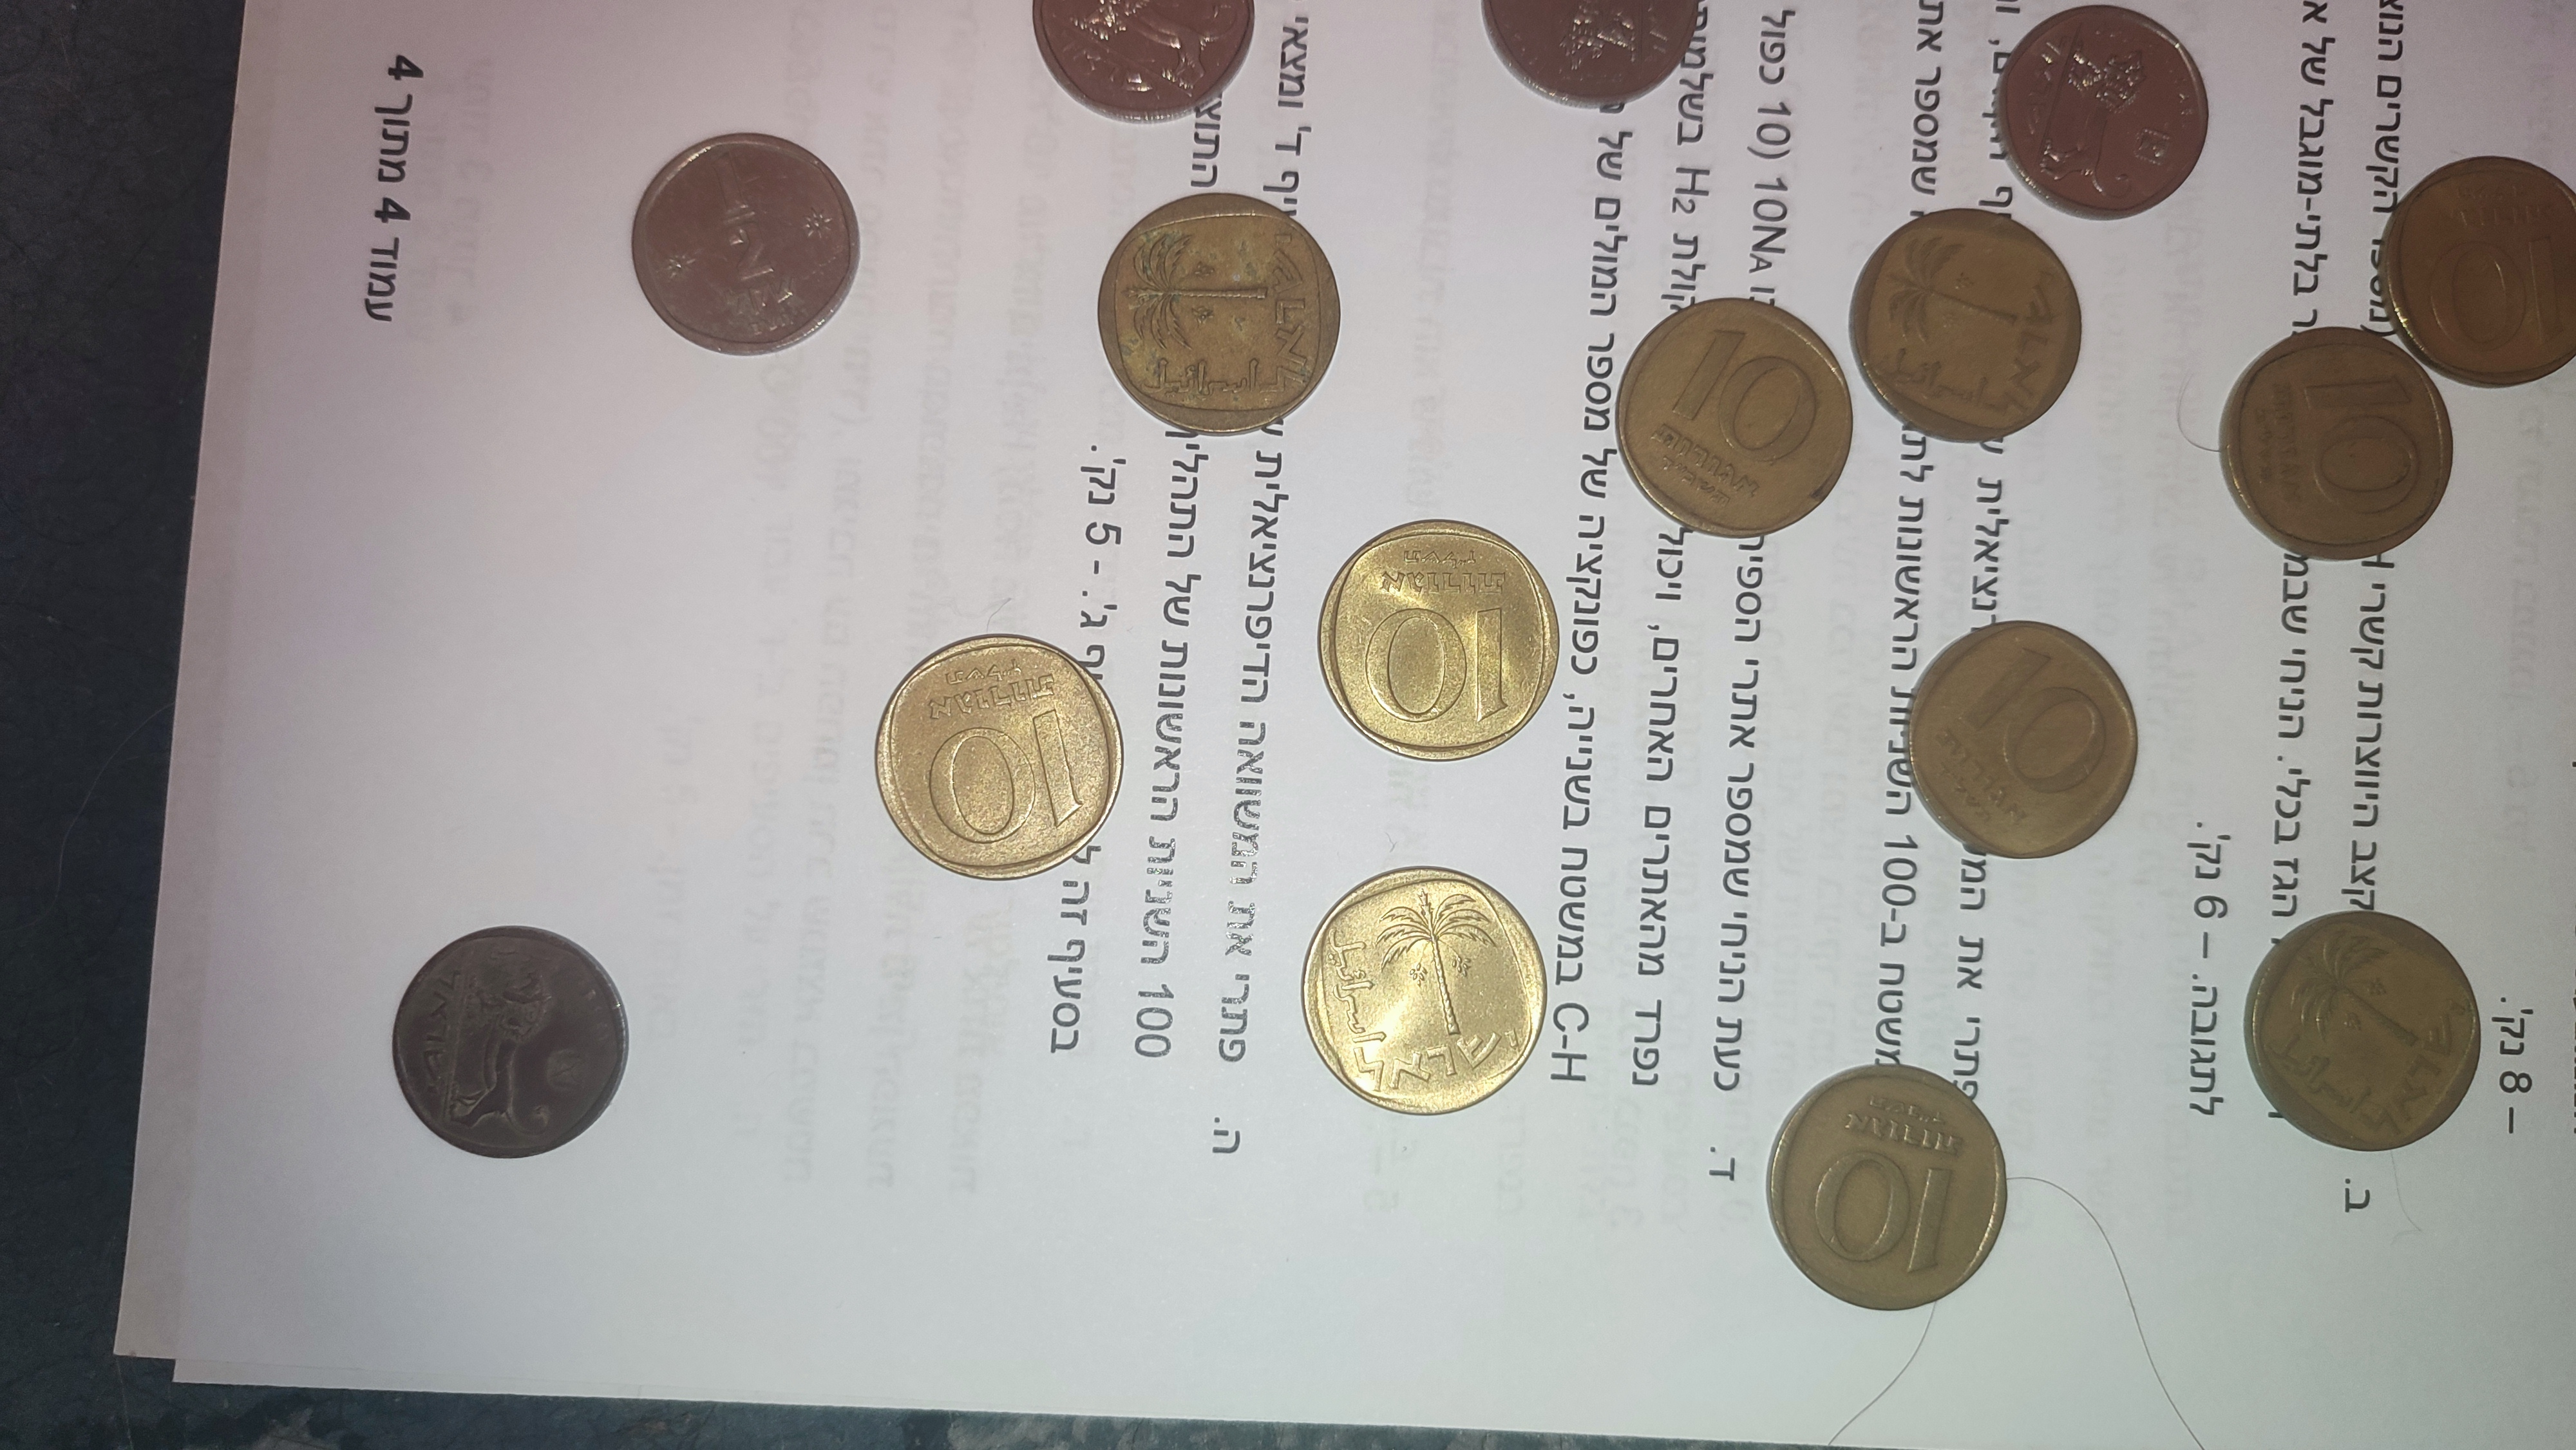1/2 old sheqel: (386, 921, 633, 1164), (626, 129, 863, 359), (1989, 4, 2212, 225), (1030, 0, 1260, 127), (1477, 0, 1706, 113)
10 old agora brown: (869, 628, 1125, 884), (1299, 863, 1550, 1118), (1762, 1059, 2013, 1312), (1311, 516, 1562, 767), (2240, 907, 2488, 1158), (1093, 189, 1346, 435), (1614, 294, 1858, 541), (1904, 619, 2143, 865), (2217, 324, 2457, 564), (1849, 205, 2086, 449), (2373, 152, 2576, 394)
